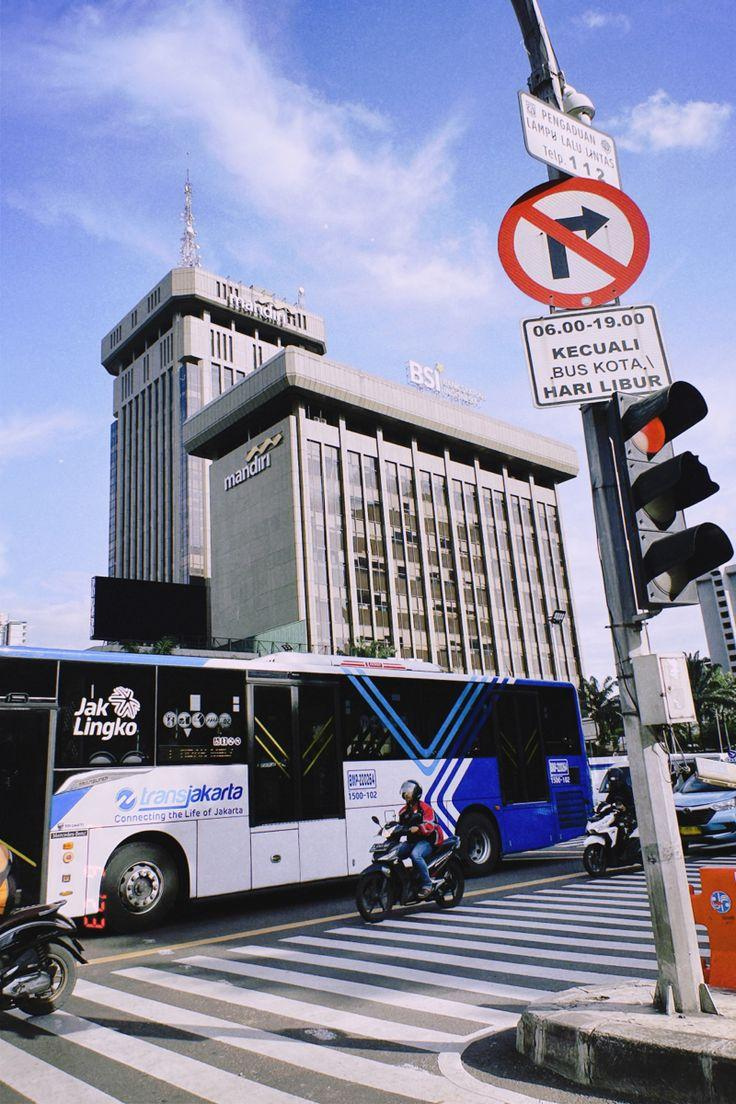mobil: (673, 753, 736, 850)
motor: (354, 814, 465, 923), (0, 898, 87, 1015), (581, 800, 641, 877)
transjakarta: (0, 628, 581, 900)
